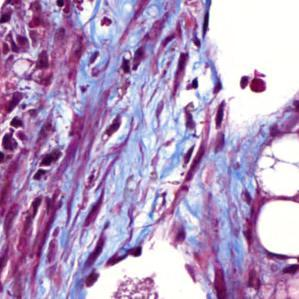steatosis: (255, 196, 299, 258)
